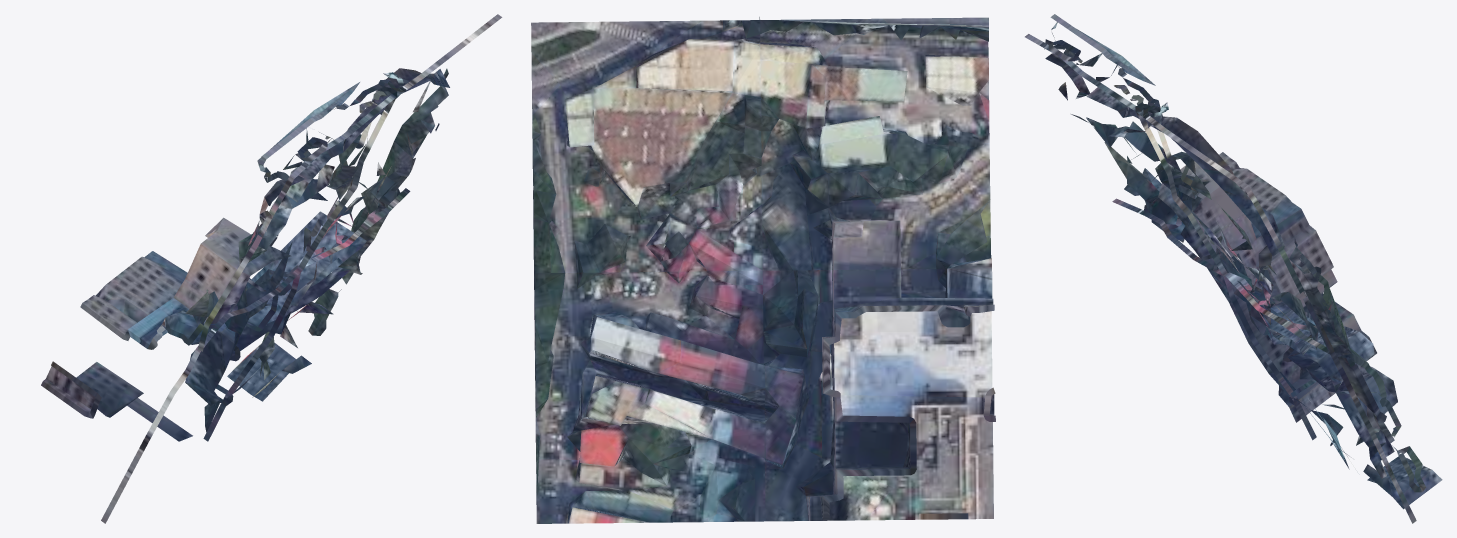
3 renders of one model, left to right at view 1: azimuth 30°, elevation 25°; view 2: azimuth 150°, elevation 25°; view 3: azimuth 270°, elevation 25°, orthographic. The views are drawn at different scales.
Bounding box in the file's own units: 167 × 143 × 138.
1 material, 1 textured.
